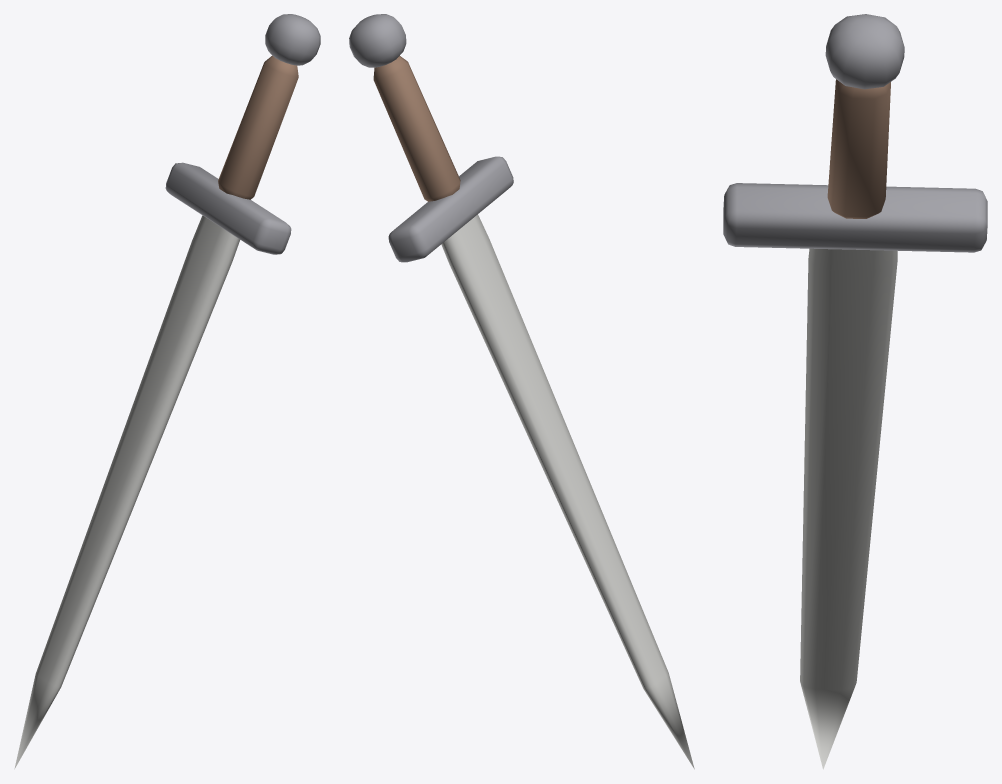
The model's file is town-blade.glb.
The picture shows the model from 3 angles, left to right: view 1: azimuth 30°, elevation 25°; view 2: azimuth 150°, elevation 25°; view 3: azimuth 270°, elevation 25°; orthographic projection. The views are drawn at different scales.
Parts seen in each view (by area): view 1: town_blade; view 2: town_blade; view 3: town_blade.
Part boxes in pixels (box(x1,y1,x2,y2)): town_blade: box(14, 14, 320, 769); town_blade: box(349, 14, 694, 769); town_blade: box(723, 14, 987, 769).
Size of the model in its own units: 0.3395 by 0.6874 by 0.1725.
